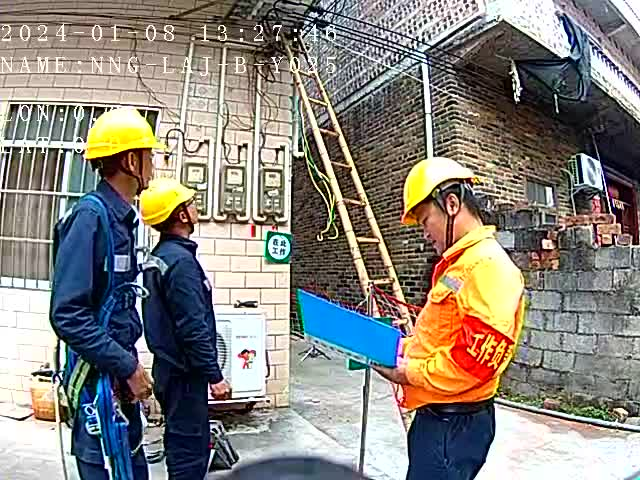badge: (450, 314, 515, 381)
downsuit: (394, 409, 500, 480), (156, 368, 214, 480)
halt: (400, 157, 484, 254), (82, 110, 164, 192), (140, 180, 201, 235)
hand: (124, 367, 153, 403), (209, 377, 231, 402)
inear: (430, 186, 473, 238), (116, 151, 148, 181), (170, 205, 196, 232)
person: (381, 156, 528, 480), (47, 108, 160, 480), (141, 177, 229, 480)
safebelt: (52, 189, 156, 480)
upsuit: (50, 189, 140, 332), (142, 240, 222, 374)
worksign: (263, 231, 295, 267)
yupsuit: (387, 224, 529, 401)
